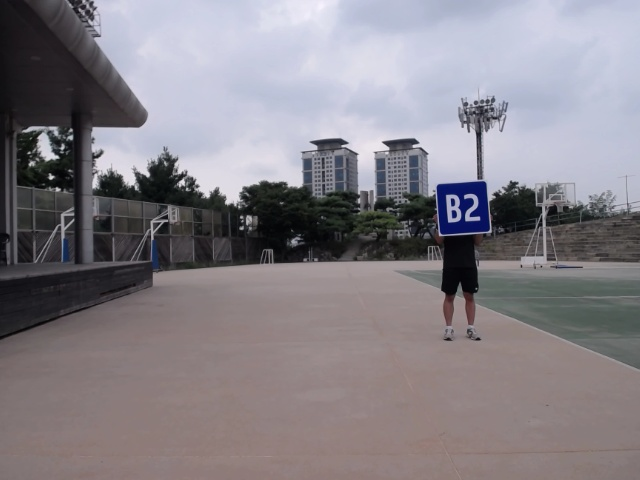delivery_b2: (434, 180, 492, 237)
